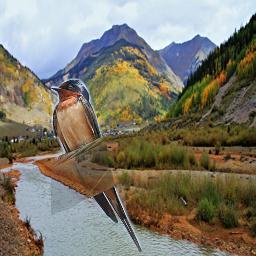Swallow: (51, 78, 142, 252)
